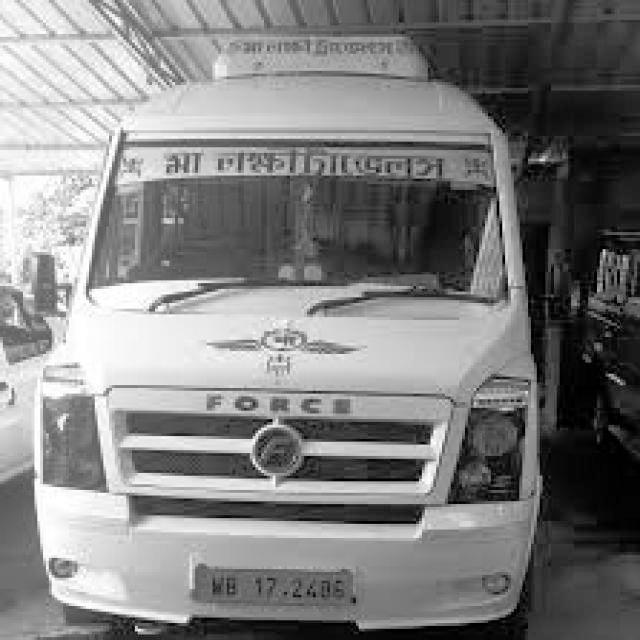LCV: (30, 37, 532, 627)
